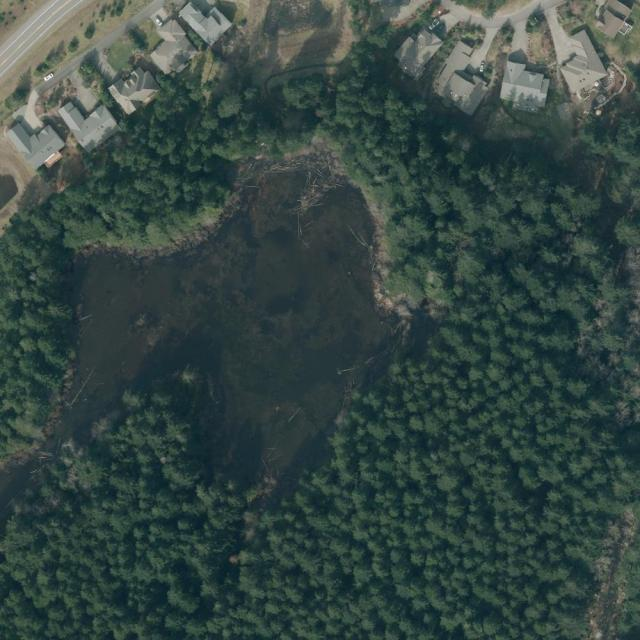building: (55, 86, 122, 154), (547, 30, 610, 98), (139, 17, 203, 81), (5, 108, 67, 171), (498, 47, 555, 115), (107, 63, 164, 118), (438, 64, 491, 117), (177, 0, 233, 47)
greenland: (231, 40, 640, 640), (1, 391, 246, 639), (0, 208, 74, 462)
metalled_road: (29, 0, 168, 100)
wetland: (42, 126, 419, 511)
